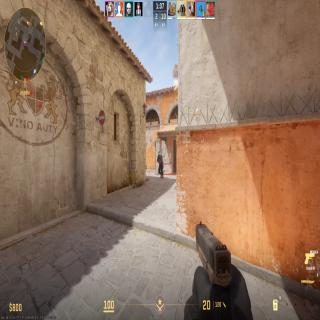CT-Body: (157, 151, 164, 179)
CT-Head: (158, 151, 161, 154)
